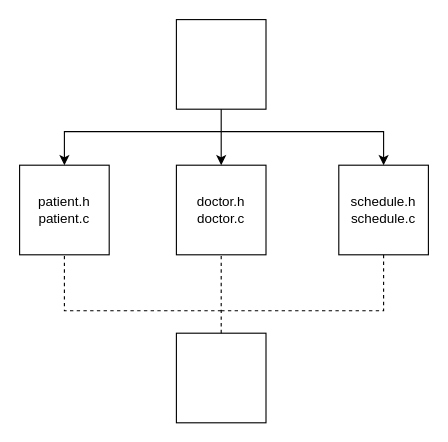
This 448x442 diagram has some shape labels left out. Each missing label, with the centre of its shape:
"main.c" goes at point (220, 63).
"tools.h tools.c" goes at point (220, 377).
